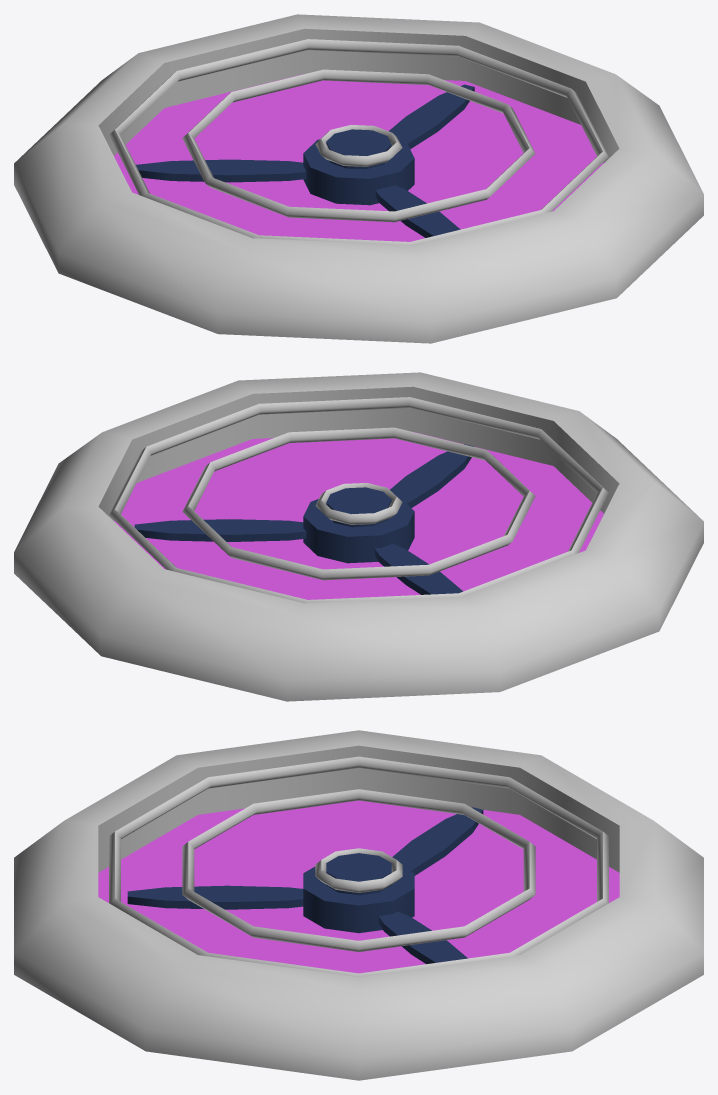
The model's file is Fan.fbx.
3 renders of one model, top to bottom at view 1: azimuth 30°, elevation 25°; view 2: azimuth 150°, elevation 25°; view 3: azimuth 270°, elevation 25°, orthographic. The views are drawn at different scales.
Parts seen in each view (by area): view 1: Basis, Fan_2; view 2: Basis, Fan_2; view 3: Basis, Fan_2.
Part boxes in pixels (bbox=[...]): Basis: bbox=[14, 14, 703, 343]; Fan_2: bbox=[136, 84, 474, 237]; Basis: bbox=[14, 372, 703, 701]; Fan_2: bbox=[134, 444, 474, 594]; Basis: bbox=[14, 730, 703, 1080]; Fan_2: bbox=[127, 807, 483, 963].
Size of the model in its own units: 370 by 37.16 by 352.
